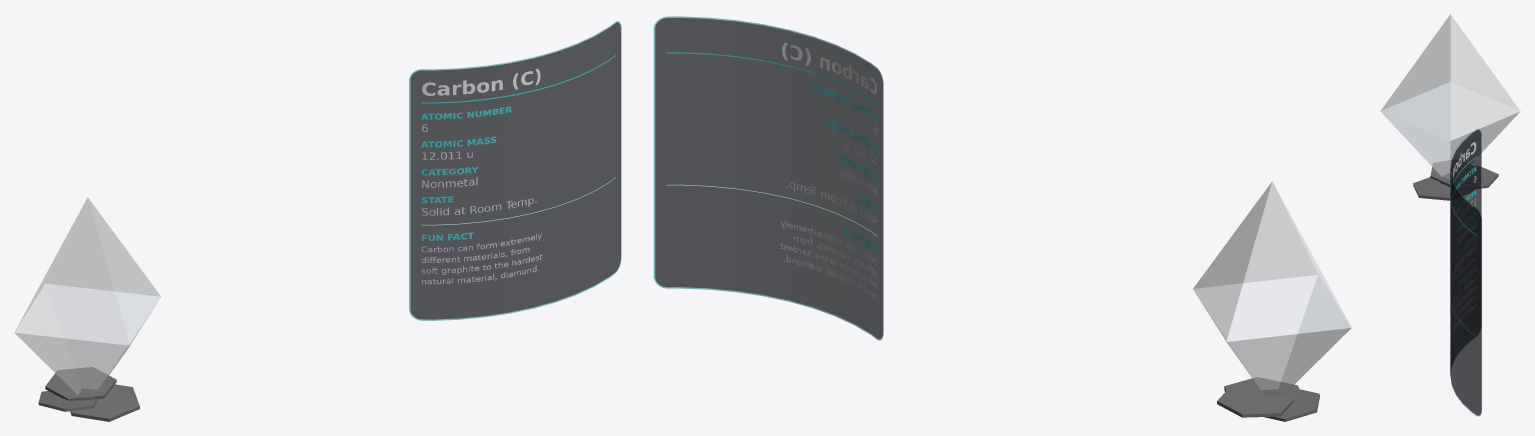
The model's file is carbon.glb.
The picture shows the model from 3 angles, left to right: view 1: azimuth 30°, elevation 25°; view 2: azimuth 150°, elevation 25°; view 3: azimuth 270°, elevation 25°; orthographic projection. The views are drawn at different scales.
Parts seen in each view (by area): view 1: info_panel, diamond_crystal, graphite_flake_2, graphite_flake_0, graphite_flake_1; view 2: info_panel, diamond_crystal, graphite_flake_2, graphite_flake_1; view 3: diamond_crystal, info_panel, graphite_flake_2, graphite_flake_0, graphite_flake_1.
Boxes of the visible parts, x1,y1,x2,y2 form: info_panel: (409,21,621,320); diamond_crystal: (14,197,160,398); graphite_flake_2: (45,367,116,400); graphite_flake_0: (70,384,139,421); graphite_flake_1: (38,391,96,411); info_panel: (653,16,883,340); diamond_crystal: (1193,181,1351,396); graphite_flake_2: (1217,385,1294,417); graphite_flake_1: (1264,387,1319,421); diamond_crystal: (1380,14,1520,179); info_panel: (1450,129,1481,416); graphite_flake_2: (1439,166,1498,190); graphite_flake_0: (1413,177,1474,200); graphite_flake_1: (1430,160,1472,181).
Bounding box in the file's own units: 1.6 × 0.6215 × 0.374.
3 materials, 1 textured.
